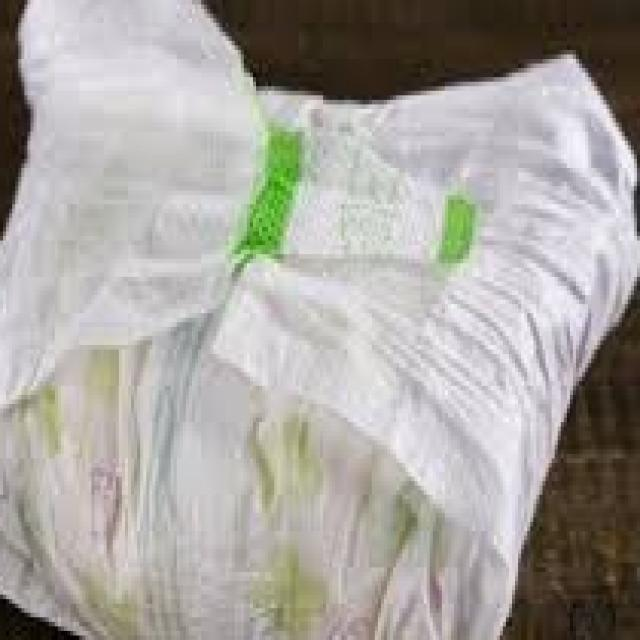organic: (11, 4, 627, 621)
